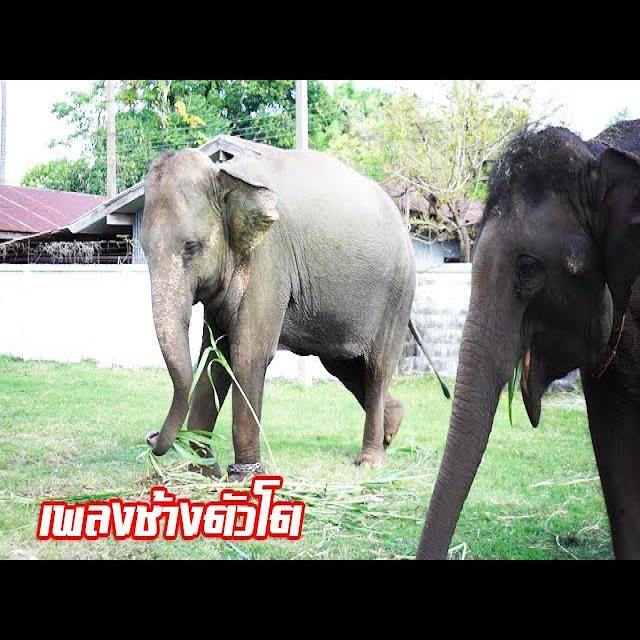Elephant: (124, 118, 414, 520), (437, 89, 639, 640)
